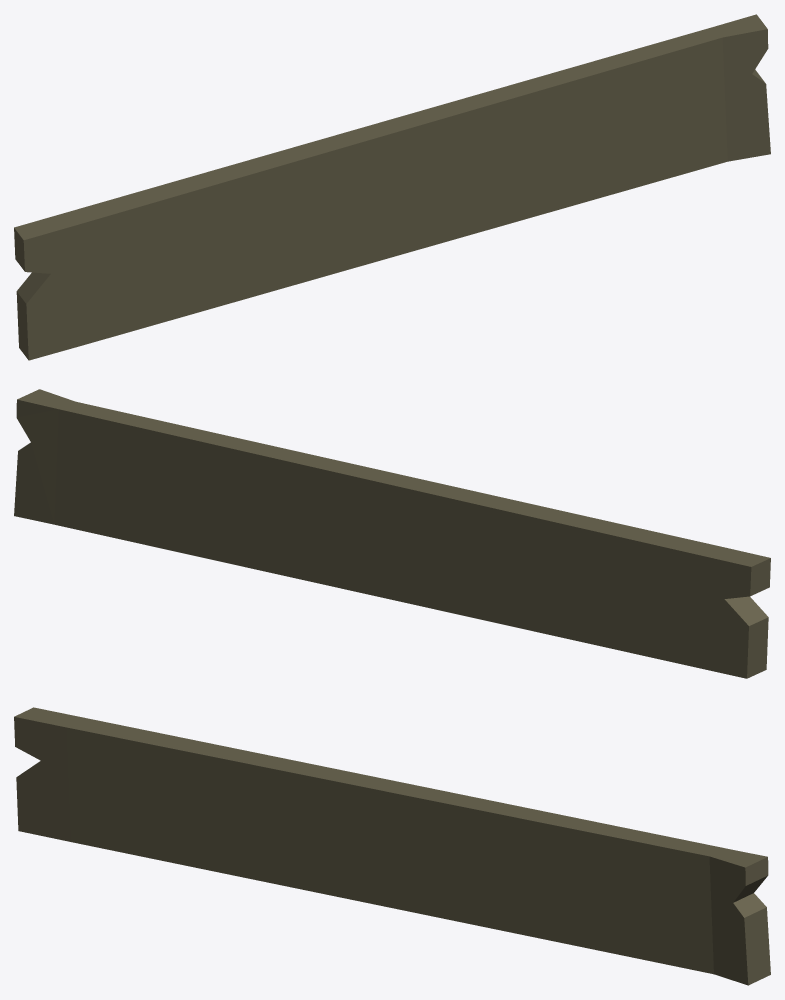
The model's file is Plank.fbx.
The picture shows the model from 3 angles, top to bottom: view 1: azimuth 30°, elevation 25°; view 2: azimuth 150°, elevation 25°; view 3: azimuth 330°, elevation 25°; orthographic projection. The views are drawn at different scales.
Visible parts, largest first — view 1: plank.001; view 2: plank.001; view 3: plank.001.
Part boxes in pixels (x1,y1,x2,y2): plank.001: (14, 14, 770, 360); plank.001: (14, 389, 770, 678); plank.001: (14, 707, 770, 985).
Bounding box in the file's own units: 19.33 × 3.13 × 1.67.
